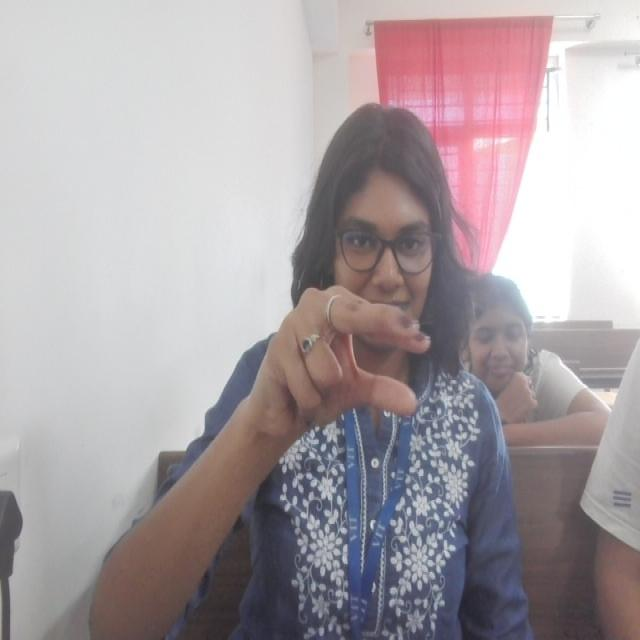no: (267, 284, 434, 434)
